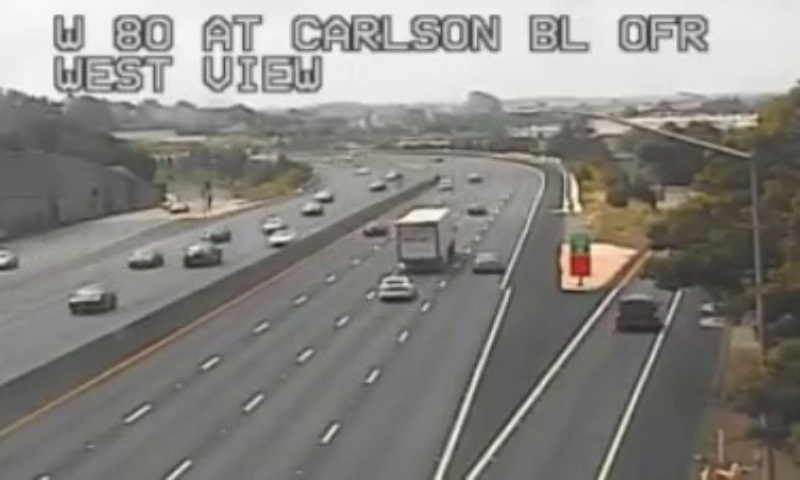car: (617, 297, 659, 332), (379, 276, 417, 301), (472, 252, 504, 272)
truck: (393, 207, 455, 268)
